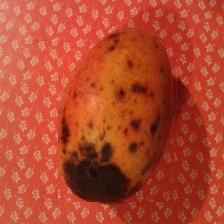Mango Semirotten: (59, 15, 181, 202)
